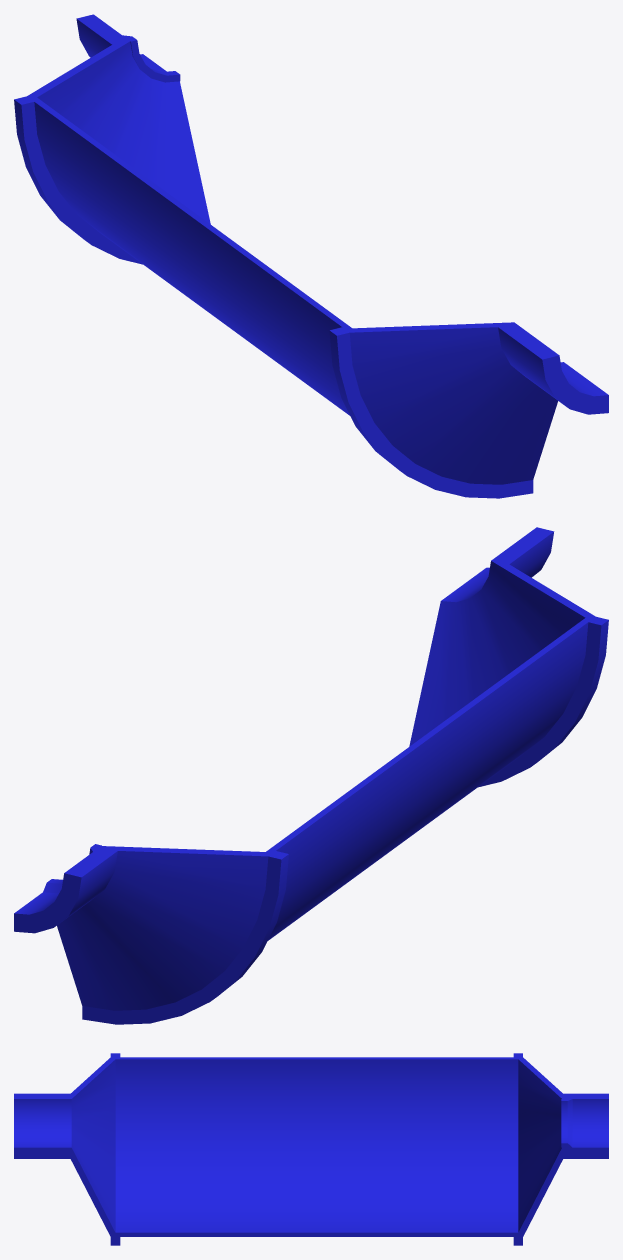
The picture shows the model from 3 angles, top to bottom: view 1: azimuth 30°, elevation 25°; view 2: azimuth 150°, elevation 25°; view 3: azimuth 270°, elevation 25°; orthographic projection. The views are drawn at different scales.
Visible parts, largest first — view 1: MJ01; view 2: MJ01; view 3: MJ01.
Part boxes in pixels (left/top/right/bottom): MJ01: left=14, top=14, right=608, bottom=498; MJ01: left=14, top=527, right=608, bottom=1024; MJ01: left=14, top=1053, right=608, bottom=1245.
Size of the model in its own units: 457 by 457 by 1876.
